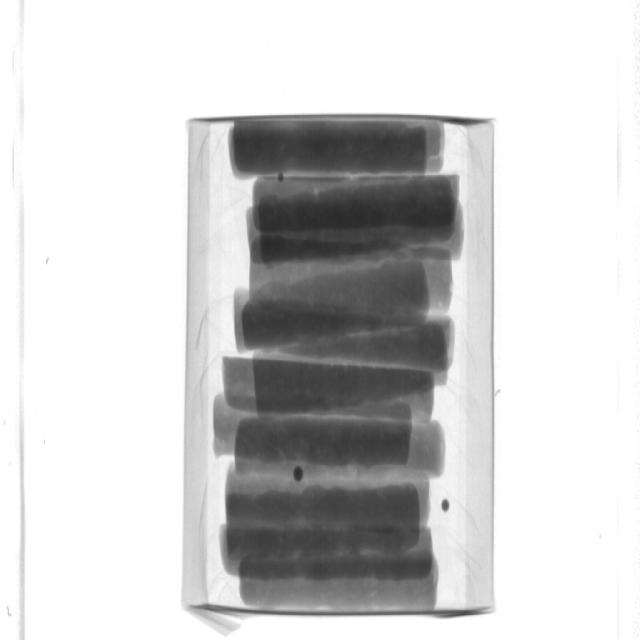ym: (293, 466, 304, 482), (444, 499, 453, 513), (279, 174, 286, 183)
